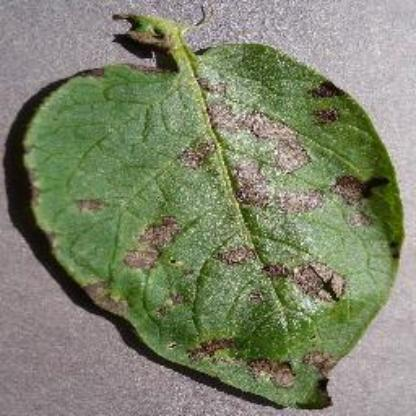Early-Blight: (20, 10, 408, 410)
